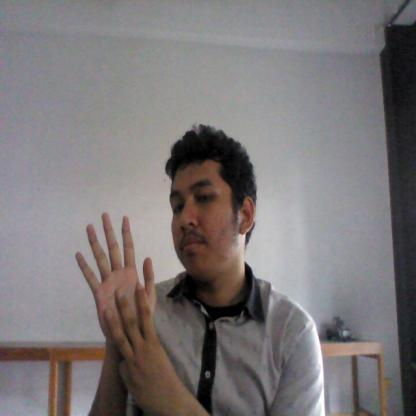M: (73, 206, 169, 392)
